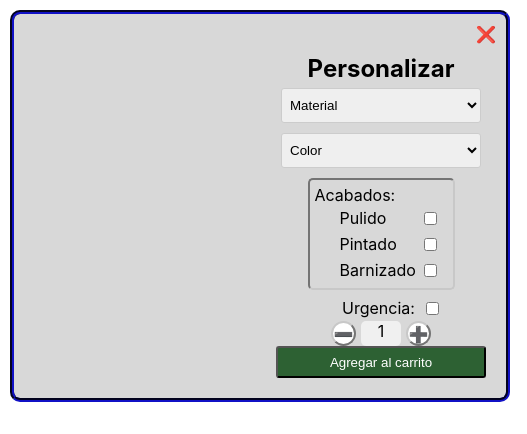
Test case: FormSolicitarProducto test › should fail on submit one field missing
This screenshot has width=527, height=434.
Select "PLA" in the 1st dropdown named "material": [381, 106] box top-left (281, 88), bottom-right (481, 123)
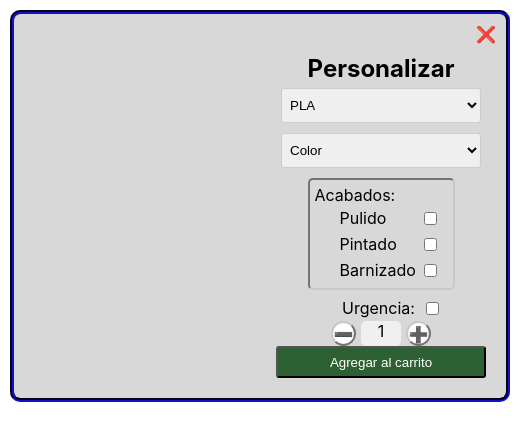
Click the submit button: [381, 362] box top-left (276, 346), bottom-right (486, 378)
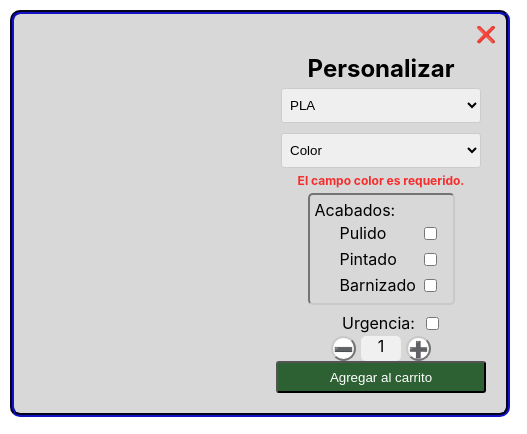
expect the text "El campo color es requerido." is shown: met, box top-left (298, 173), bottom-right (464, 188)
